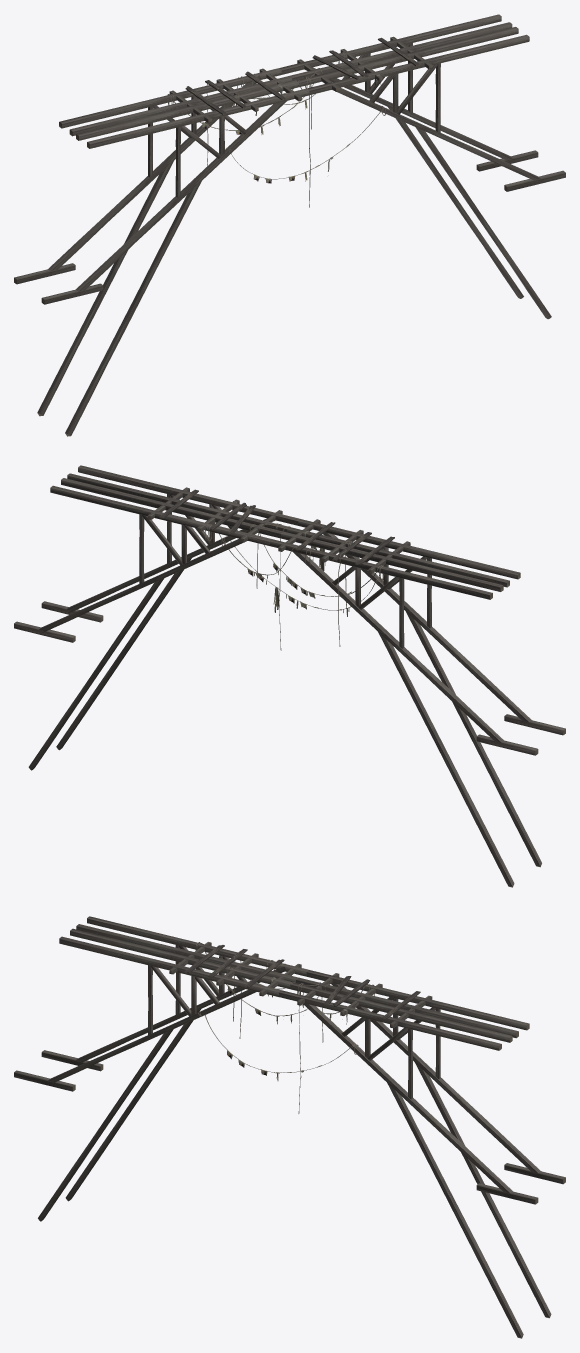
The model's file is AEG023_291out-transformed.glb.
3 views of the same model, one above another, from view 1: azimuth 30°, elevation 25°; view 2: azimuth 150°, elevation 25°; view 3: azimuth 330°, elevation 25° (orthographic).
Visible parts, largest first — view 1: default; view 2: default; view 3: default.
Part boxes in pixels (<box>): default: <box>14,14,565,436</box>; default: <box>14,465,565,887</box>; default: <box>14,916,565,1338</box>.
Size of the model in its own units: 31.05 by 16.53 by 4.04.
2 materials, 2 textured.
